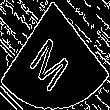M_NE: (31, 21, 79, 89)
